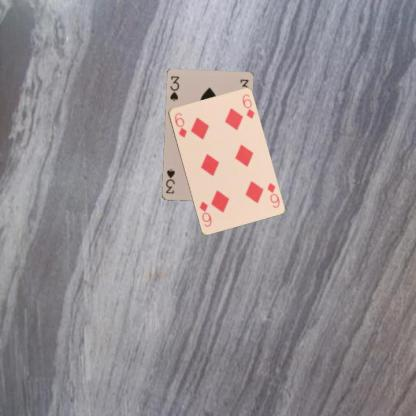3s: (168, 74, 180, 103)
6d: (264, 180, 281, 209), (172, 110, 188, 138)
